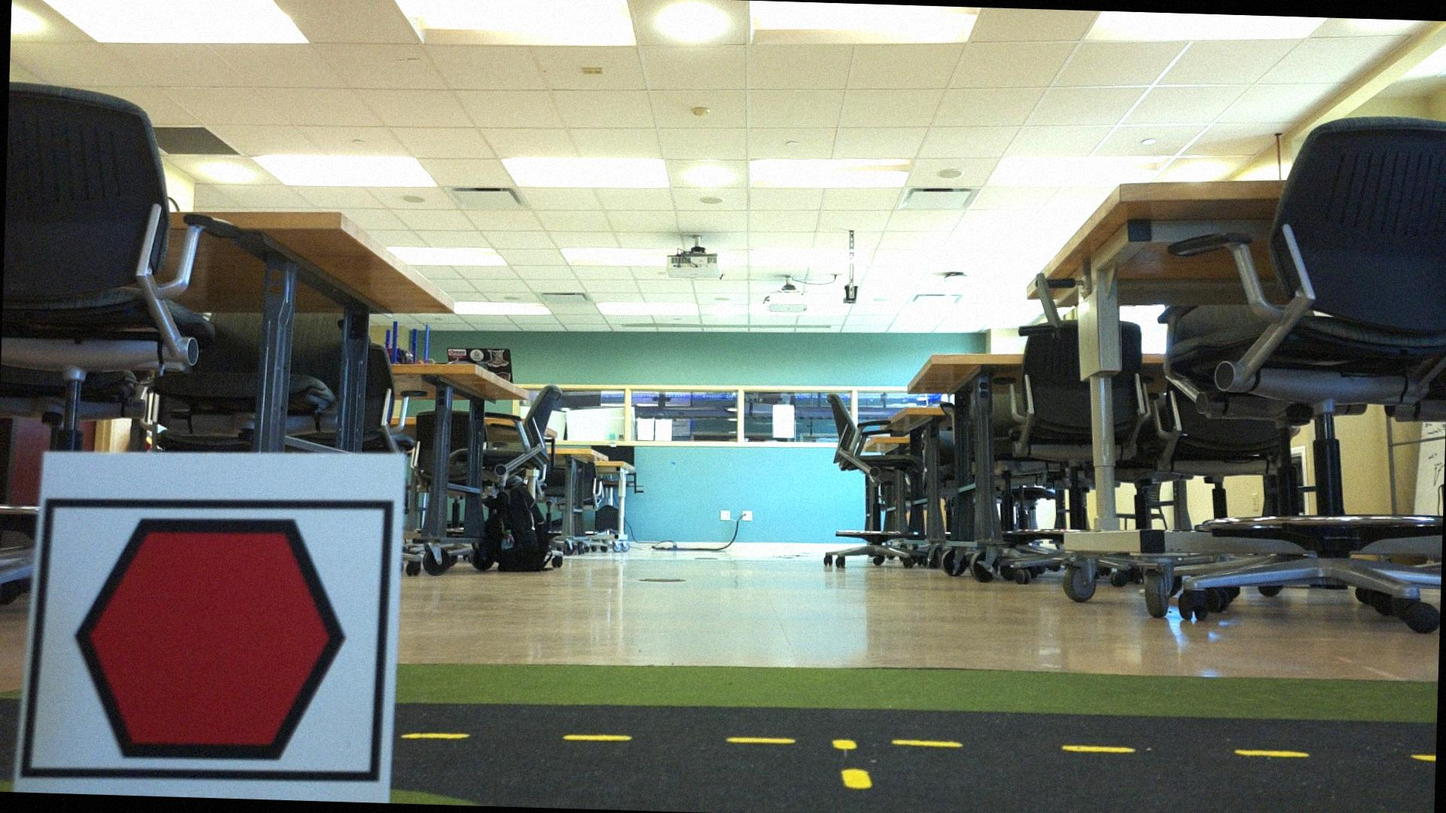stop: (52, 504, 365, 778)
yellowline: (406, 725, 1430, 771), (830, 735, 876, 793)
